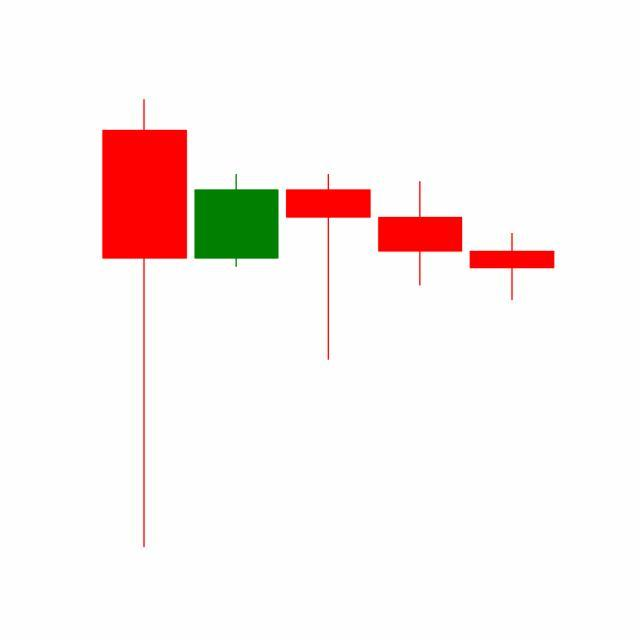Spinning Top: (466, 232, 559, 302)
